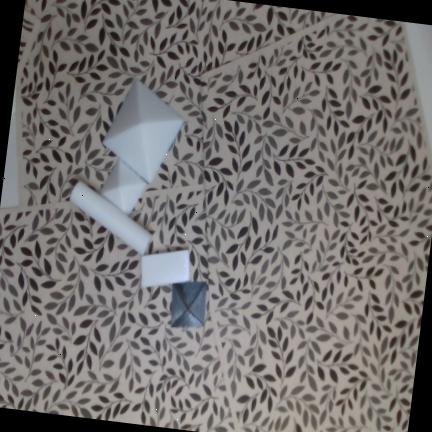Cilindro: (69, 179, 151, 256)
Paralelepipedo: (140, 249, 190, 287)
Piramide: (102, 78, 184, 184), (98, 157, 147, 216), (170, 282, 207, 327)
